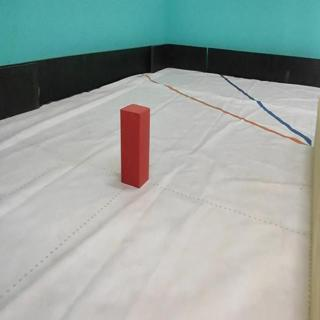redbox: (119, 102, 151, 189)
